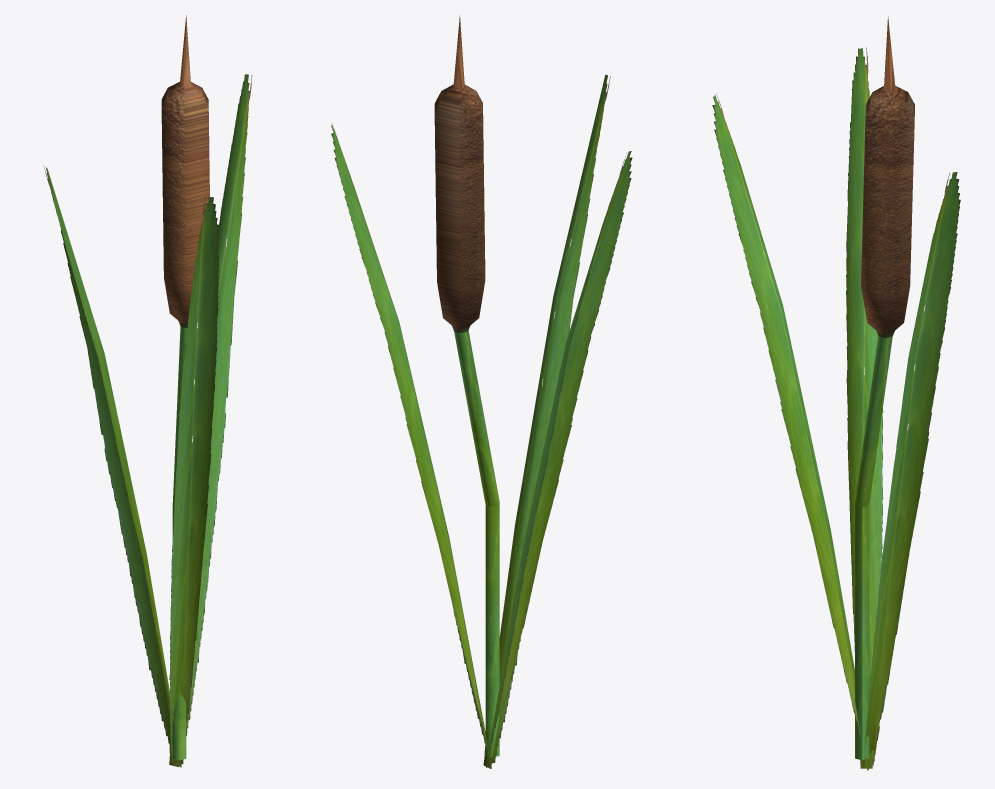
The model's file is cattail.obj.
3 renders of one model, left to right at view 1: azimuth 30°, elevation 25°; view 2: azimuth 150°, elevation 25°; view 3: azimuth 270°, elevation 25°, orthographic. The views are drawn at different scales.
Visible parts, largest first — view 1: cattail; view 2: cattail; view 3: cattail.
Boxes of the visible parts, x1=… form: cattail: x1=43, y1=15, x2=252, y2=767; cattail: x1=331, y1=15, x2=632, y2=768; cattail: x1=712, y1=16, x2=960, y2=770.
Bounding box in the file's own units: 37.78 × 90.86 × 31.76.
1 material, 1 textured.
